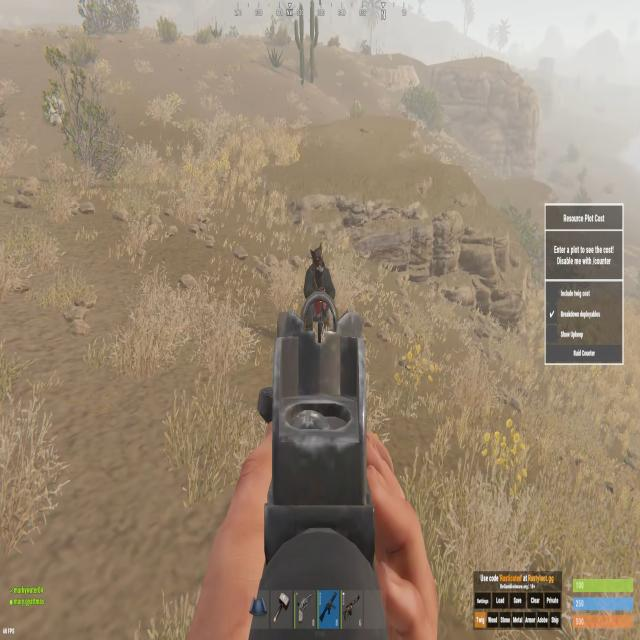Player: (303, 242, 336, 293)
